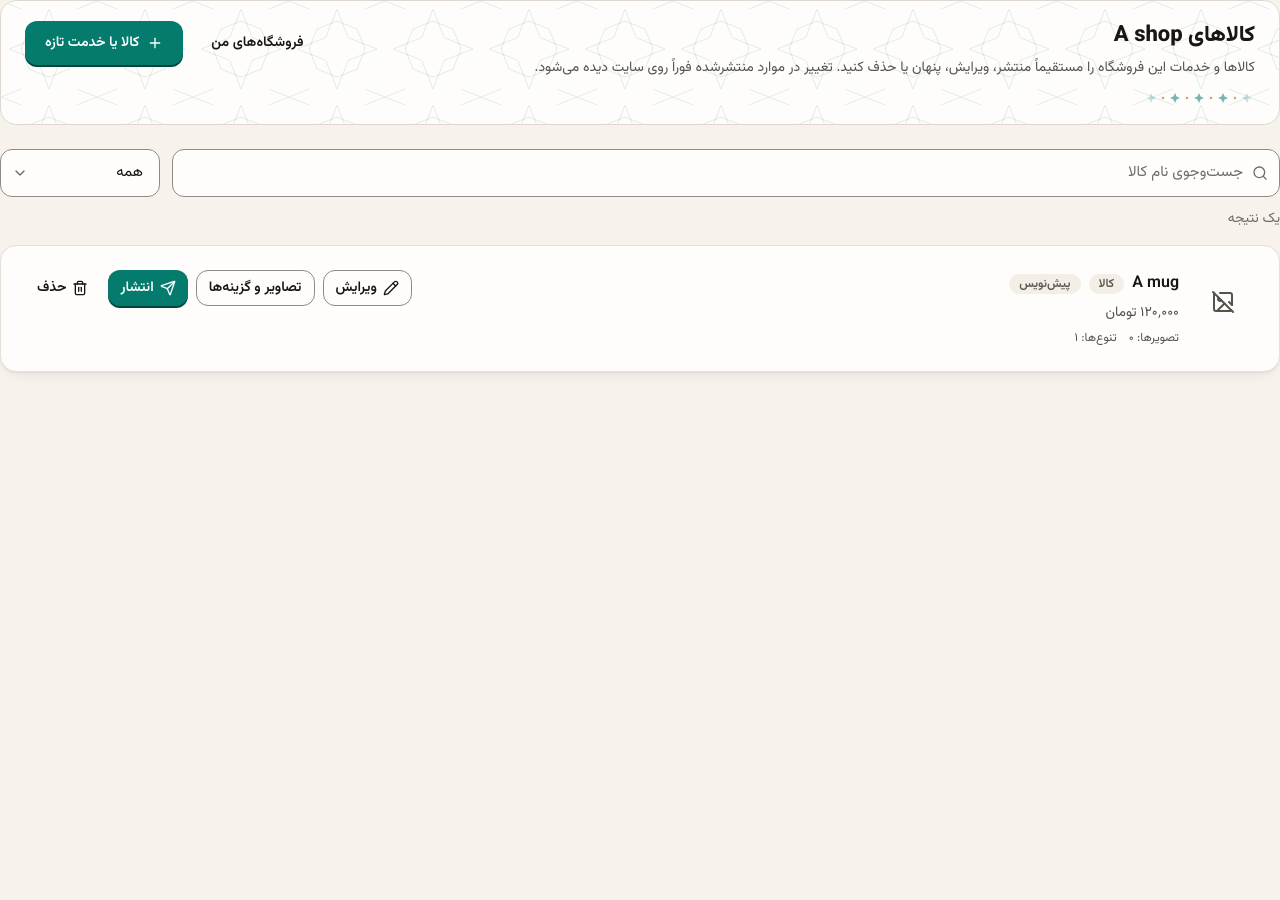
Scenario: the options form › fills the form from the option being corrected
The width and height of the screenshot is (1280, 900).
Click the button "تصاویر و گزینه‌ها": (255, 288) [196,270,314,306]
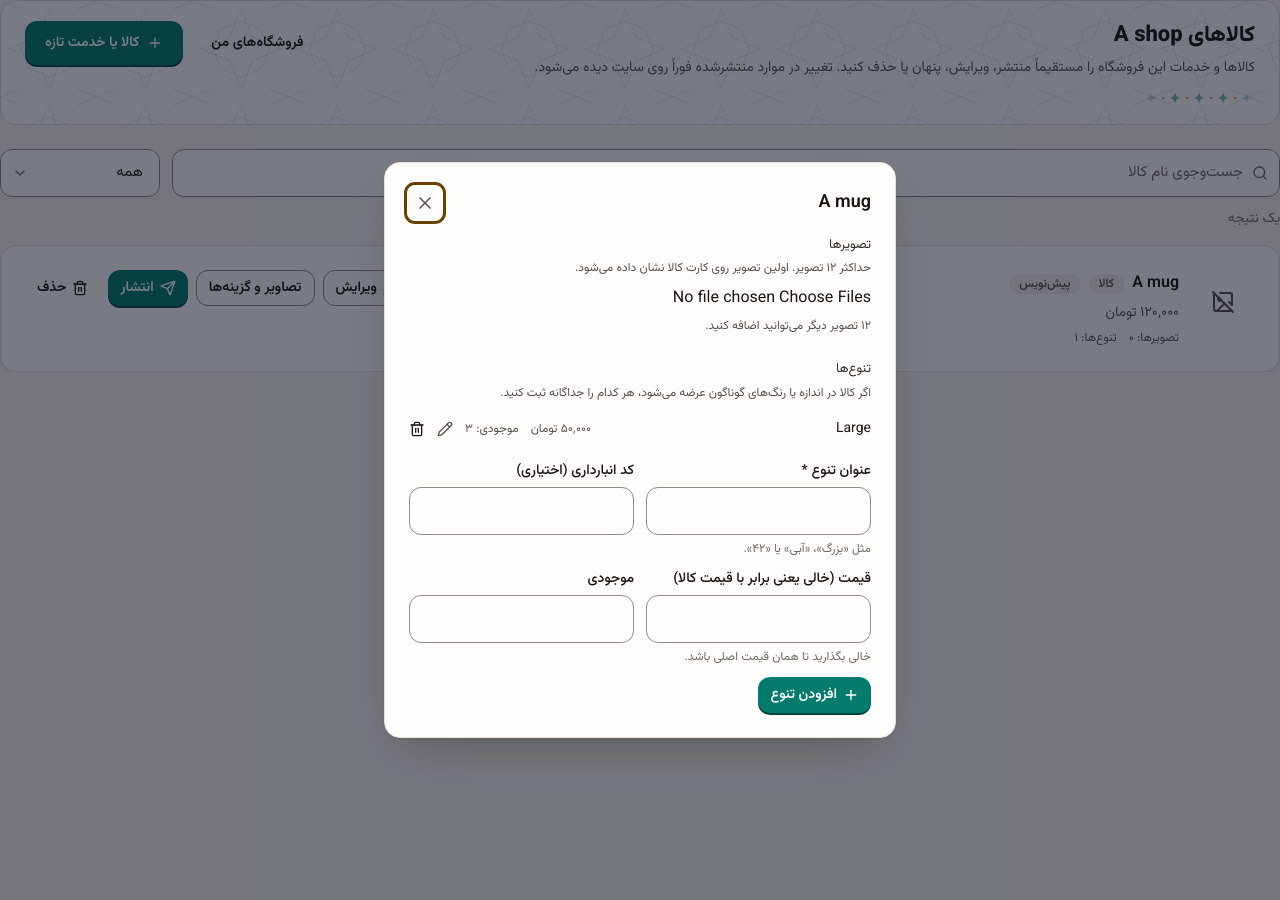
Click the button named "ویرایش گزینه": (445, 429) [437,421,453,437]
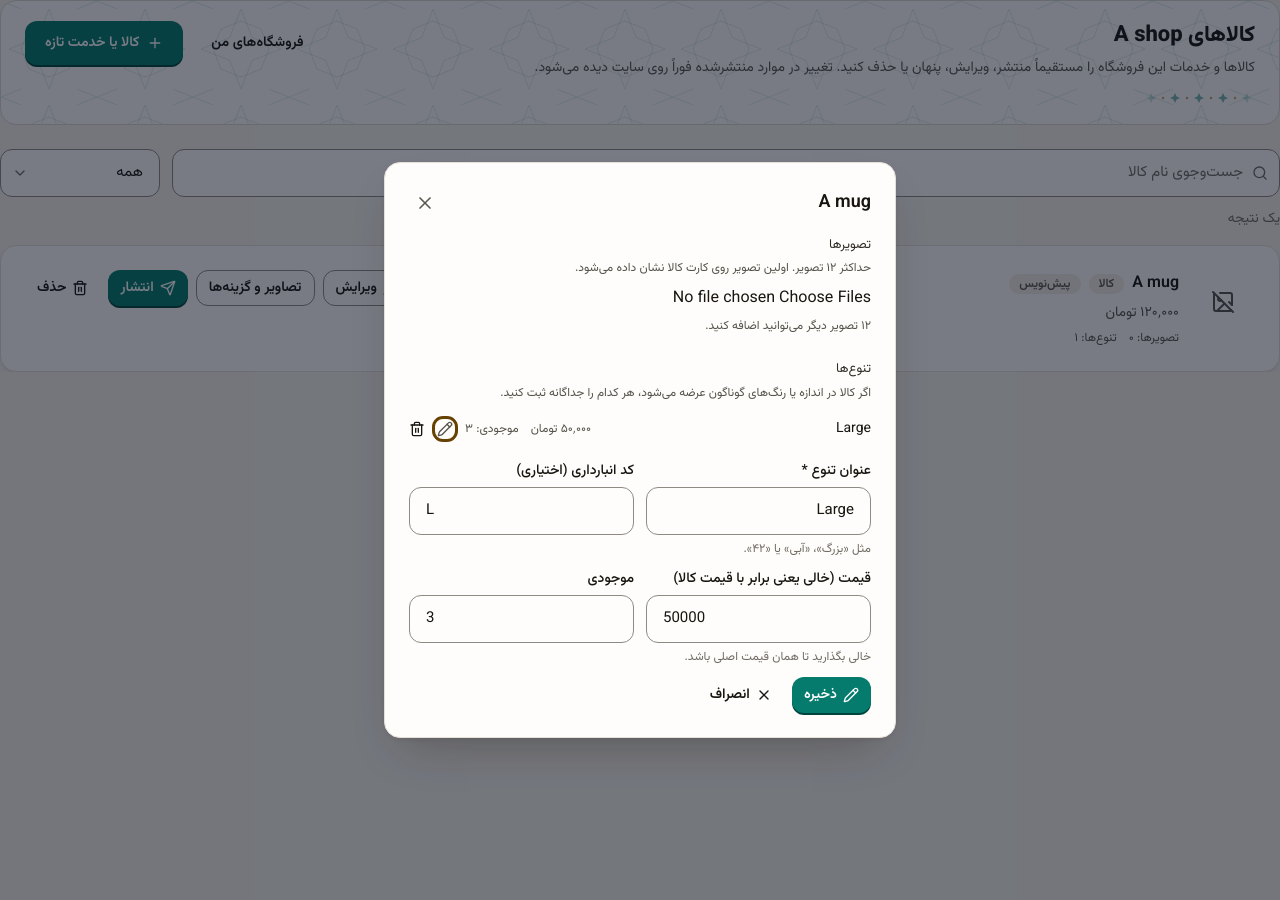
Check: the field showing "Large" is shown, box [646,487,871,535]
Check: the field showing "50000" is shown, box [646,595,871,643]
